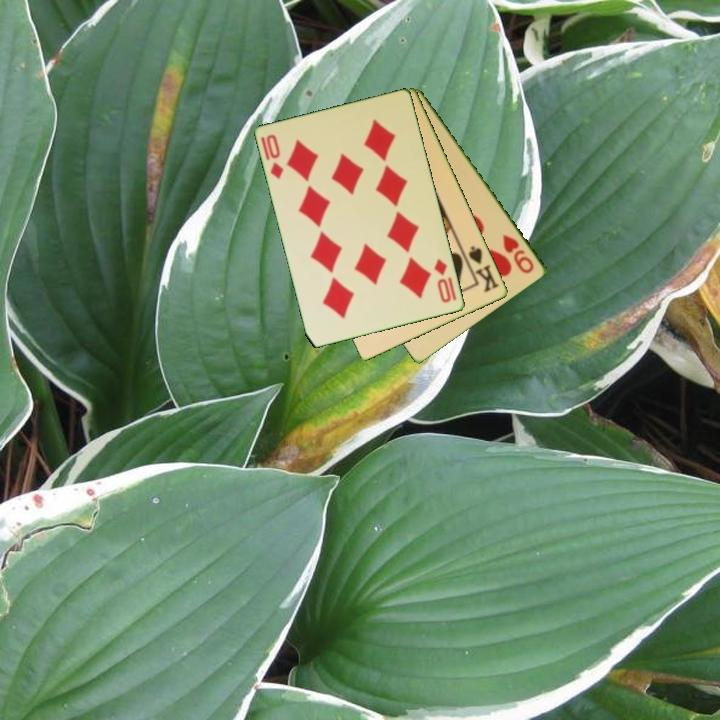10d: (263, 131, 287, 182), (431, 255, 454, 306)
9h: (499, 231, 537, 277)
Ks: (465, 242, 502, 295)
